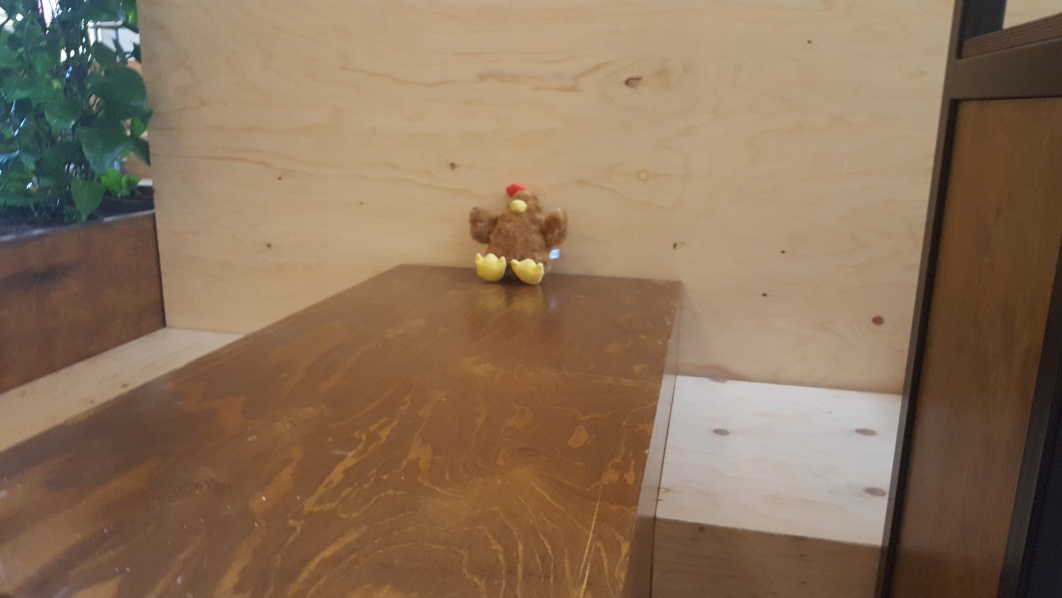chicken: (466, 178, 573, 287)
